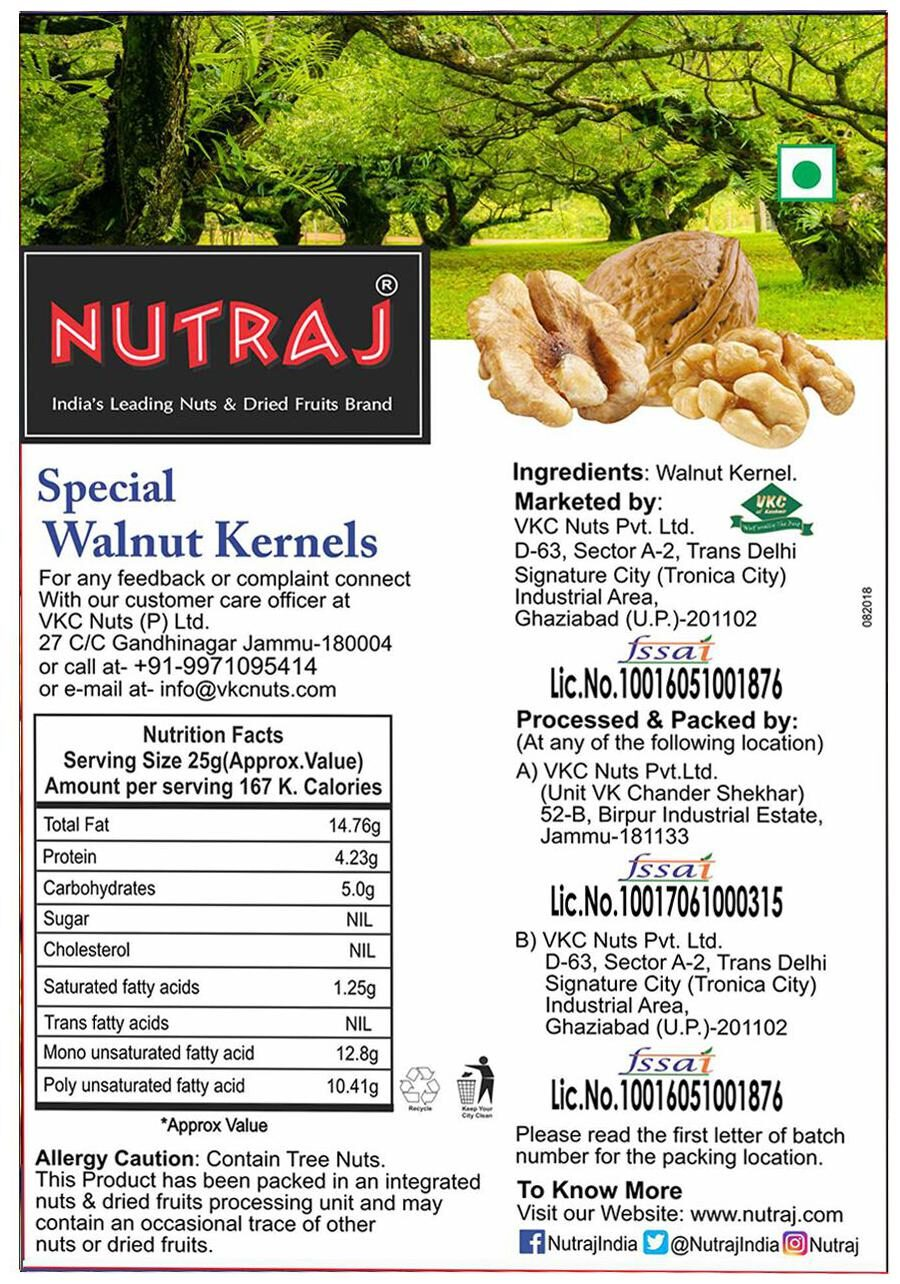fssai: (616, 1046, 717, 1077), (617, 852, 714, 884), (616, 634, 716, 664)
